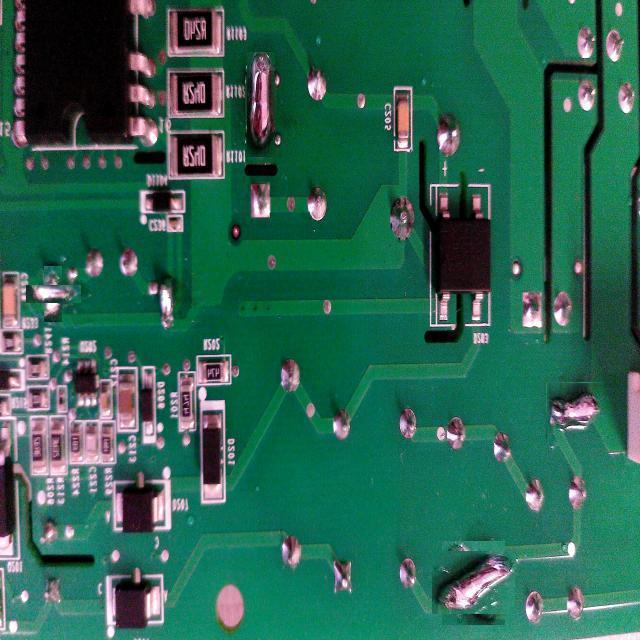Short_circuit: (437, 546, 510, 620), (246, 51, 276, 157), (546, 382, 601, 439), (34, 276, 72, 312), (160, 272, 174, 332)
